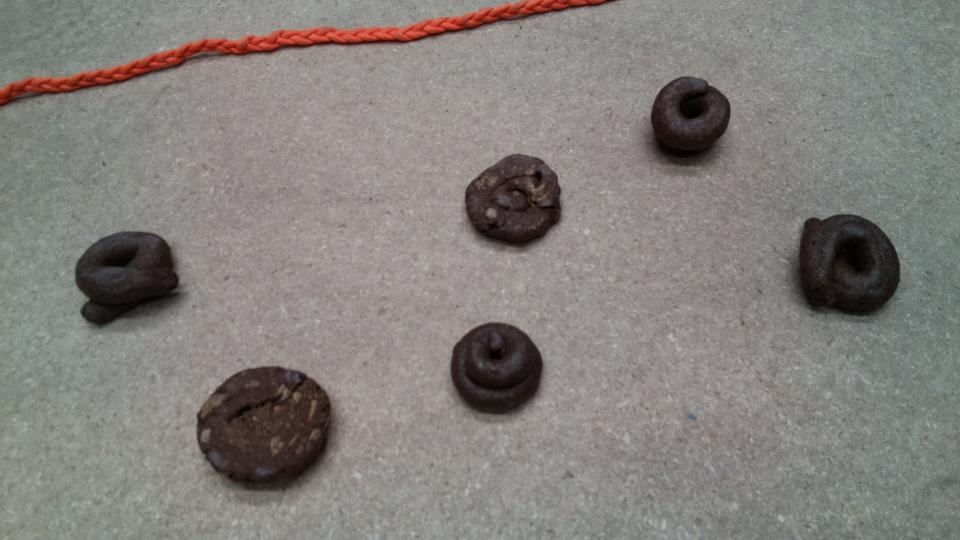poop: (191, 363, 337, 495), (793, 209, 901, 318), (71, 229, 186, 330), (460, 150, 564, 251), (448, 318, 546, 418), (645, 72, 738, 161)
rope: (1, 1, 595, 99)
